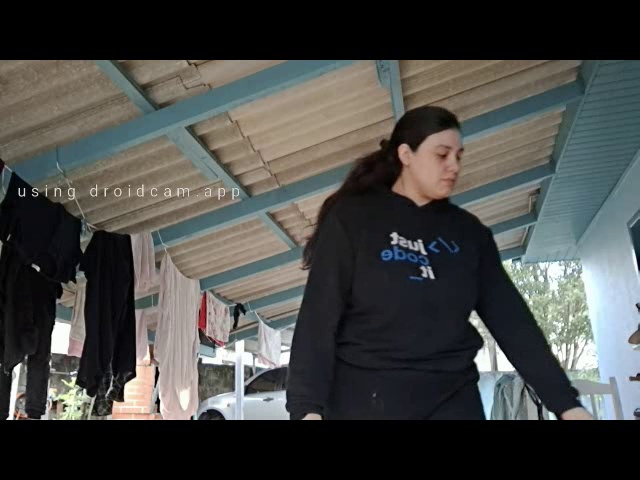MULHER: (357, 95, 527, 214)
